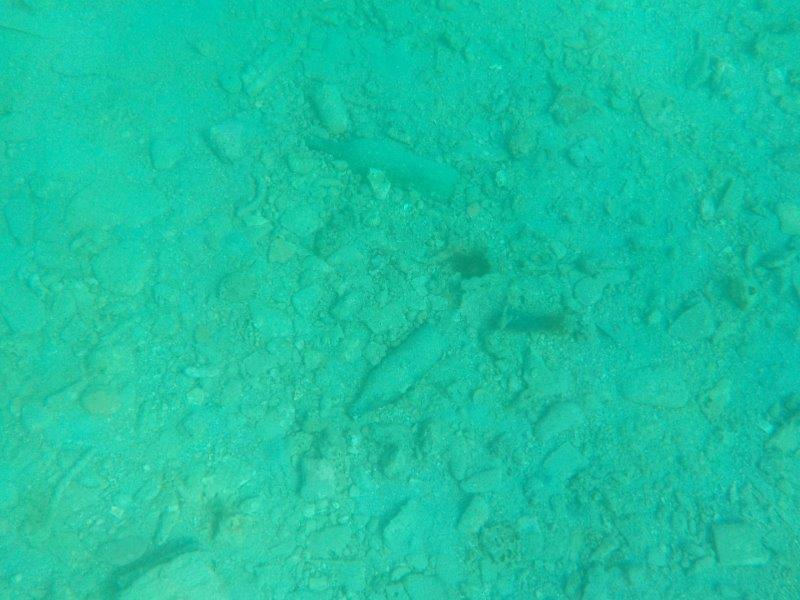bottle: (299, 121, 470, 211), (337, 316, 454, 426)
